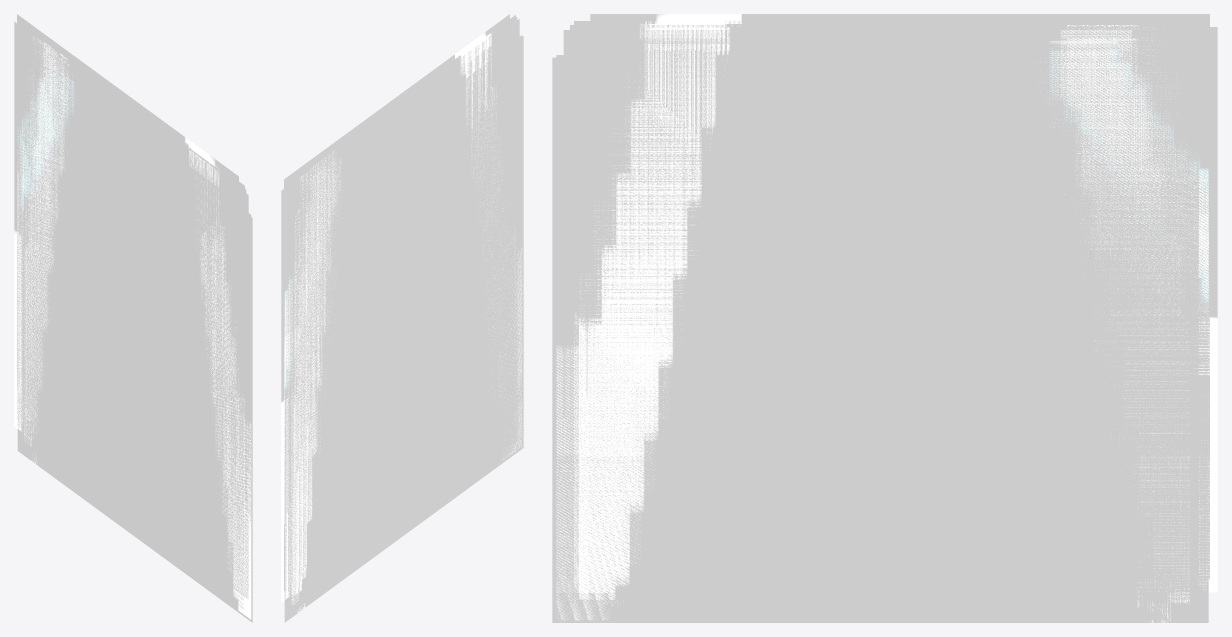
Rendered from sprites.glb.
The picture shows the model from 3 angles, left to right: view 1: azimuth 30°, elevation 25°; view 2: azimuth 150°, elevation 25°; view 3: azimuth 270°, elevation 25°; orthographic projection. The views are drawn at different scales.
Parts seen in each view (by area): view 1: ai20level, mp29level, ai20down, mp2down, ai20up, mp8down, mp29up, ai7up, mp1down, mp9down, mp29down, mp8up (+8 smaller); view 2: ai20down, mp29level, ai20up, mp1up, mp9up, mp2up, ai20level, ai7up, mp29up, ai7down, mp9level, mp2down (+6 smaller); view 3: mp29down, mp9down, mp9level, ai20up, mp29level, ai20down, mp29up, mp8down, mp1down, mp2down, mp8level, ai7up (+6 smaller).
Boxes of the visible parts, left/top/right/bottom form: ai20level: left=21, top=40, right=243, bottom=543; mp29level: left=21, top=44, right=243, bottom=609; ai20down: left=23, top=26, right=244, bottom=585; mp2down: left=29, top=103, right=251, bottom=619; ai20up: left=24, top=37, right=246, bottom=528; mp8down: left=17, top=14, right=238, bottom=524; mp29up: left=26, top=34, right=248, bottom=598; ai7up: left=24, top=30, right=246, bottom=462; mp1down: left=23, top=68, right=244, bottom=545; mp9down: left=21, top=32, right=243, bottom=553; mp29down: left=21, top=27, right=243, bottom=541; mp8up: left=14, top=21, right=235, bottom=500; ai20down: left=290, top=17, right=515, bottom=587; mp29level: left=288, top=123, right=514, bottom=614; ai20up: left=291, top=26, right=517, bottom=602; mp1up: left=291, top=30, right=517, bottom=604; mp9up: left=285, top=23, right=511, bottom=599; mp2up: left=297, top=36, right=523, bottom=612; ai20level: left=288, top=30, right=514, bottom=530; ai7up: left=291, top=17, right=517, bottom=587; mp29up: left=293, top=19, right=519, bottom=595; ai7down: left=290, top=15, right=515, bottom=530; mp9level: left=284, top=54, right=510, bottom=622; mp2down: left=296, top=35, right=522, bottom=611; mp29down: left=579, top=27, right=1198, bottom=592; mp9down: left=579, top=34, right=1198, bottom=599; mp9level: left=588, top=57, right=1208, bottom=622; ai20up: left=570, top=38, right=1189, bottom=603; mp29level: left=577, top=50, right=1197, bottom=615; ai20down: left=574, top=24, right=1193, bottom=589; mp29up: left=563, top=30, right=1183, bottom=595; mp8down: left=590, top=14, right=1209, bottom=579; mp1down: left=574, top=55, right=1193, bottom=620; mp2down: left=556, top=55, right=1176, bottom=620; mp8level: left=566, top=58, right=1185, bottom=622; ai7up: left=570, top=25, right=1189, bottom=589.
Size of the model in its own units: 0 by 0.00786 by 0.00778.
Materials: 1 (1 with a texture image).
